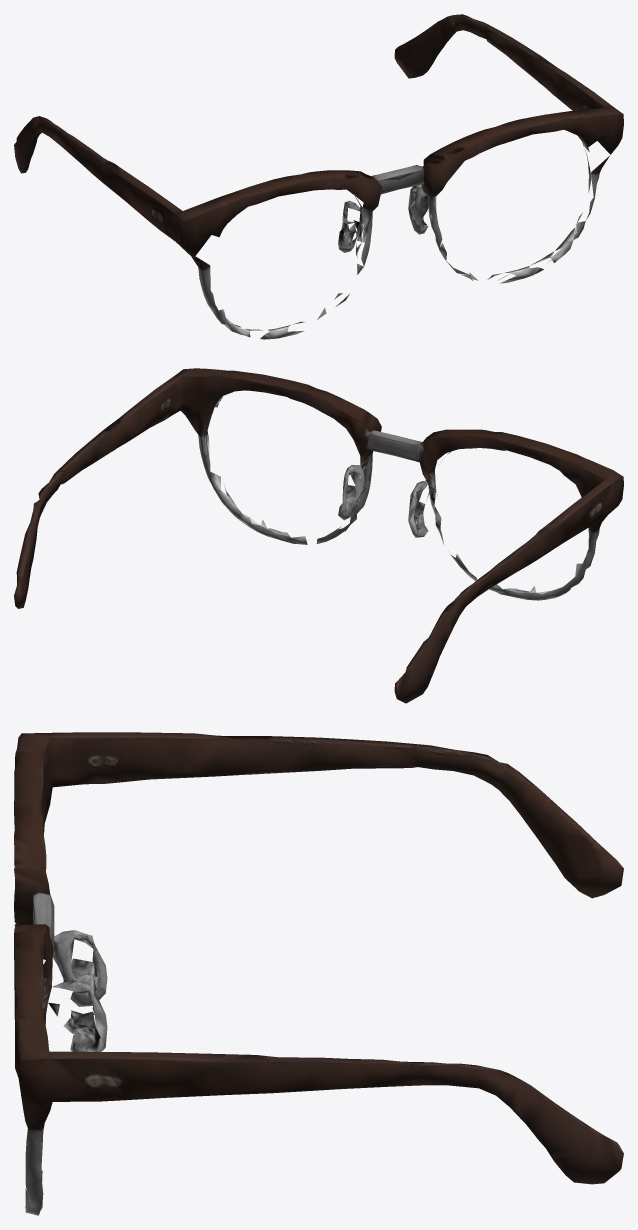
File: head_accessory__0_053-optimized.glb
3 renders of one model, top to bottom at view 1: azimuth 30°, elevation 25°; view 2: azimuth 150°, elevation 25°; view 3: azimuth 270°, elevation 25°, orthographic. The views are drawn at different scales.
Parts seen in each view (by area): view 1: geometry_0_053; view 2: geometry_0_053; view 3: geometry_0_053.
Part boxes in pixels (x1,y1,x2,y2): geometry_0_053: [14, 14, 623, 339]; geometry_0_053: [14, 368, 623, 703]; geometry_0_053: [14, 732, 623, 1215].
Size of the model in its own units: 0.7801 by 0.2642 by 0.6145.
1 material, 1 textured.
